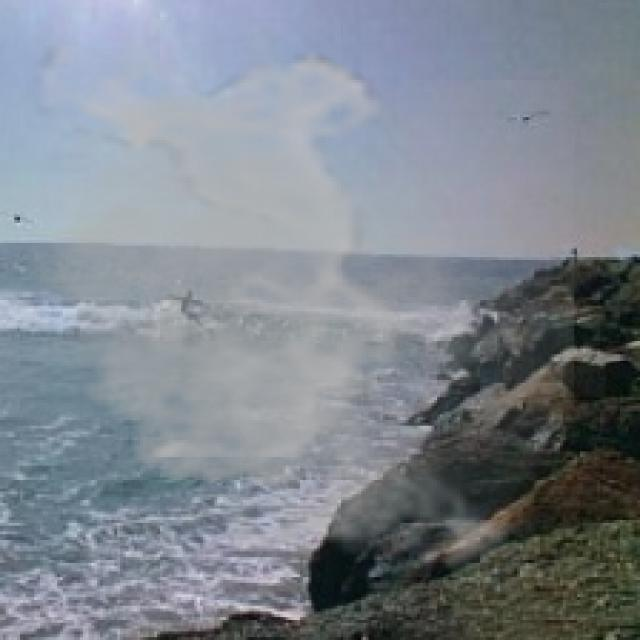Smoke: (8, 46, 574, 586)
